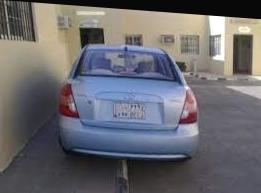License_Plate: (110, 99, 148, 123)
